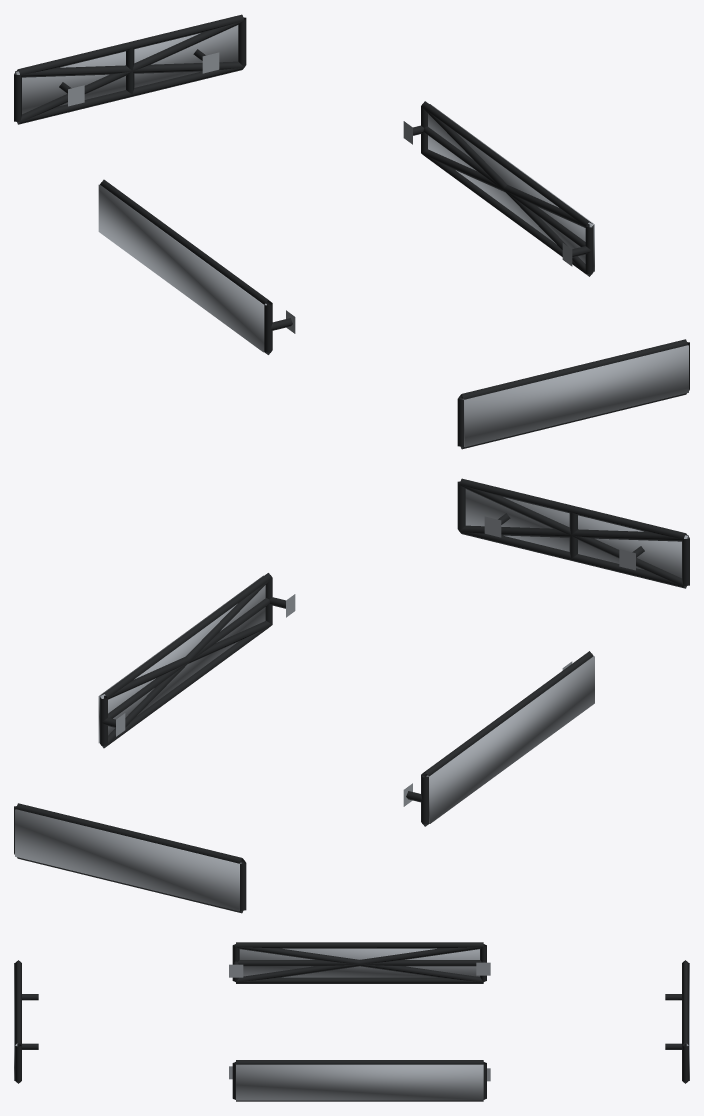
File: hozuki_ancoragem_protecao.glb
3 views of the same model, one above another, from view 1: azimuth 30°, elevation 25°; view 2: azimuth 150°, elevation 25°; view 3: azimuth 270°, elevation 25° (orthographic). The views are drawn at different scales.
Visible parts, largest first — view 1: Protection_front_Level3_Details, Protection_left_Level3_Details, Protection_rear_Level1_Details, Protection_rear_Level3_Details, Protection_right_Level1_Details, Protection_right_Level2_Details, Protection_rear_Level2_Details, Protection_right_Level3_Details, Protection_front_Level1_Details, Protection_left_Level1_Details; view 2: Protection_rear_Level3_Details, Protection_left_Level3_Details, Protection_front_Level1_Details, Protection_front_Level3_Details, Protection_right_Level1_Details, Protection_right_Level2_Details, Protection_front_Level2_Details, Protection_right_Level3_Details, Protection_rear_Level1_Details, Protection_left_Level1_Details; view 3: Protection_right_Level3_Details, Protection_left_Level2_Details, Protection_left_Level1_Details, Protection_left_Level3_Details, Protection_right_Level1_Details, Protection_rear_Level1_Details, Protection_front_Level1_Details.
Part boxes in pixels (x1,y1,x2,y2): Protection_front_Level3_Details: [462, 345, 688, 447]; Protection_left_Level3_Details: [98, 184, 266, 352]; Protection_rear_Level1_Details: [14, 14, 246, 124]; Protection_rear_Level3_Details: [15, 25, 238, 114]; Protection_right_Level1_Details: [403, 101, 593, 276]; Protection_right_Level2_Details: [421, 107, 592, 276]; Protection_rear_Level2_Details: [16, 20, 244, 123]; Protection_right_Level3_Details: [428, 104, 594, 271]; Protection_front_Level1_Details: [457, 339, 689, 449]; Protection_left_Level1_Details: [100, 179, 295, 354]; Protection_rear_Level3_Details: [15, 809, 241, 911]; Protection_left_Level3_Details: [426, 656, 594, 823]; Protection_front_Level1_Details: [457, 478, 689, 588]; Protection_front_Level3_Details: [465, 489, 688, 578]; Protection_right_Level1_Details: [100, 573, 295, 748]; Protection_right_Level2_Details: [101, 578, 271, 748]; Protection_front_Level2_Details: [459, 484, 687, 587]; Protection_right_Level3_Details: [98, 575, 265, 743]; Protection_rear_Level1_Details: [14, 803, 246, 913]; Protection_left_Level1_Details: [403, 651, 593, 826]; Protection_right_Level3_Details: [236, 1064, 483, 1100]; Protection_left_Level2_Details: [235, 946, 483, 982]; Protection_left_Level1_Details: [229, 942, 490, 983]; Protection_left_Level3_Details: [239, 948, 479, 977]; Protection_right_Level1_Details: [229, 1060, 490, 1101]; Protection_rear_Level1_Details: [665, 960, 688, 1083]; Protection_front_Level1_Details: [15, 960, 38, 1083].
Size of the model in its own units: 2.21 by 0.354 by 5.19.
1 material, 1 textured.
